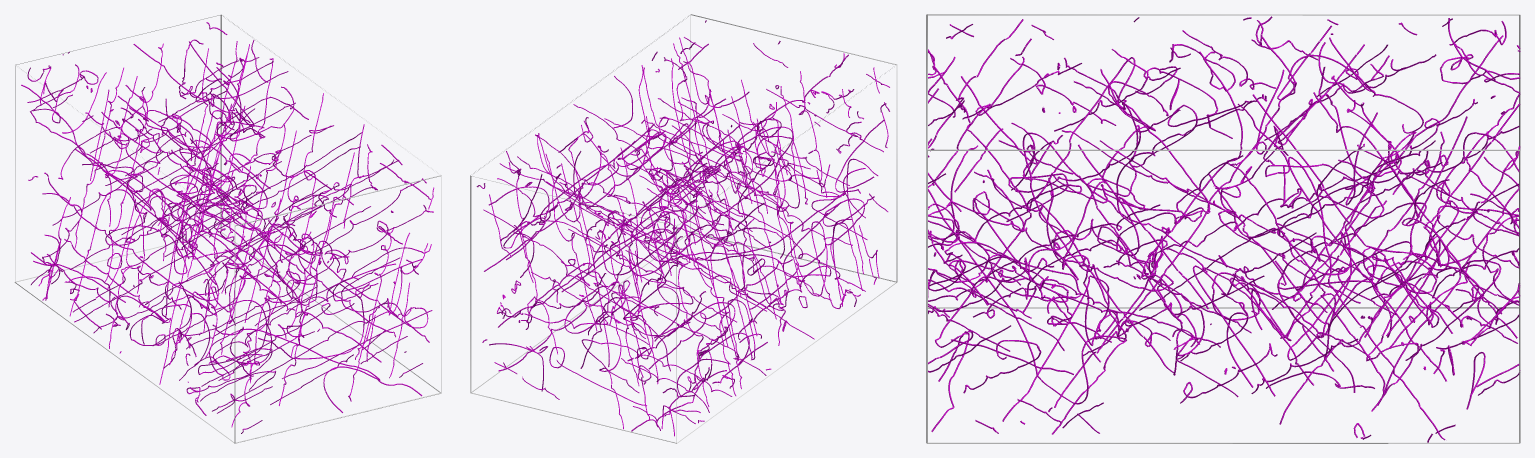
3 views of the same model, side by side, from view 1: azimuth 30°, elevation 25°; view 2: azimuth 150°, elevation 25°; view 3: azimuth 270°, elevation 25° (orthographic). The views are drawn at different scales.
Parts seen in each view (by area): view 1: Shape_IndexedLineSet.001, Shape_IndexedLineSet; view 2: Shape_IndexedLineSet.001, Shape_IndexedLineSet; view 3: Shape_IndexedLineSet.001, Shape_IndexedLineSet.
Boxes of the visible parts, x1,y1,x2,y2 form: Shape_IndexedLineSet.001: (21, 22, 434, 433); Shape_IndexedLineSet: (14, 14, 441, 443); Shape_IndexedLineSet.001: (476, 20, 889, 436); Shape_IndexedLineSet: (470, 14, 897, 443); Shape_IndexedLineSet.001: (928, 16, 1520, 442); Shape_IndexedLineSet: (926, 14, 1520, 443).
Bounding box in the file's own units: 239 × 241 × 441.
